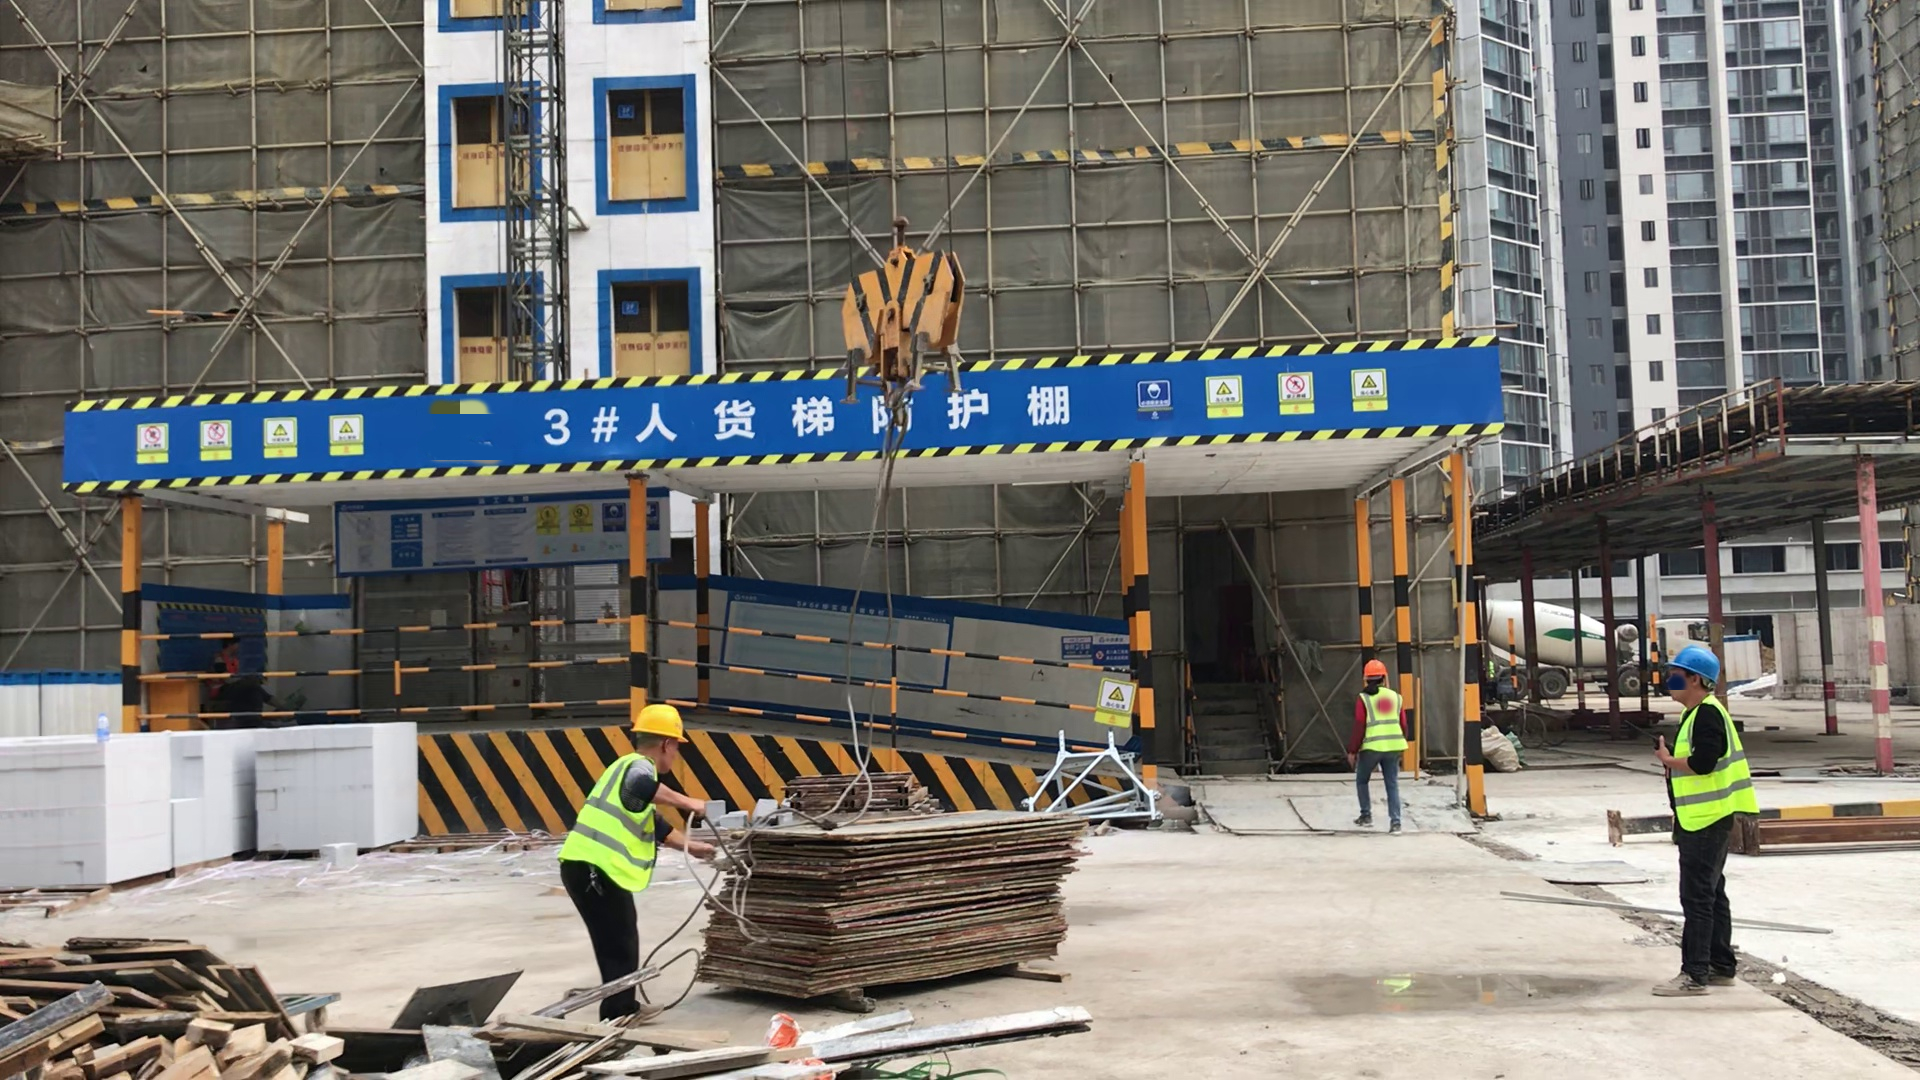board: (709, 803, 1089, 1002)
brick: (3, 719, 421, 886)
helmet: (627, 704, 683, 741), (1667, 648, 1719, 686), (1362, 662, 1387, 678)
hook: (841, 245, 967, 436)
person: (562, 701, 718, 1022), (1655, 646, 1755, 1006), (1341, 663, 1418, 835)
slogan: (1126, 367, 1401, 424), (122, 413, 366, 463), (536, 500, 660, 557), (1049, 631, 1135, 671), (1093, 671, 1137, 732)
vest: (563, 752, 662, 898), (1674, 695, 1759, 836), (1356, 688, 1408, 752)
